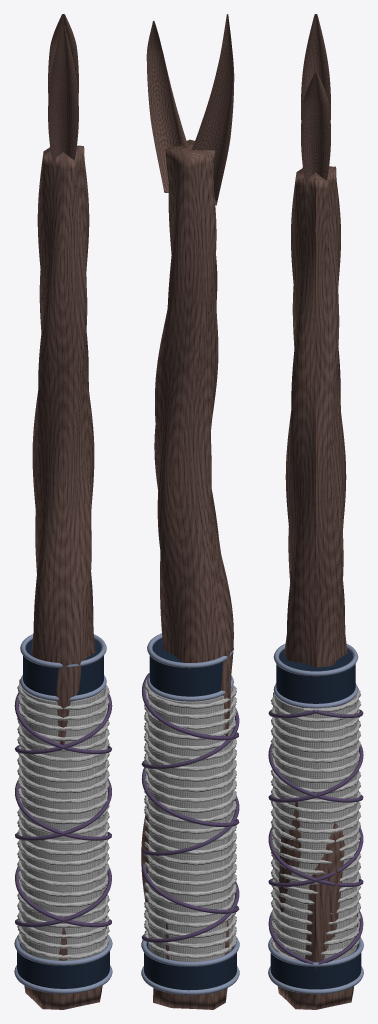
The model's file is magic_wand.glb.
The picture shows the model from 3 angles, left to right: view 1: azimuth 90°, elevation 25°; view 2: azimuth 150°, elevation 25°; view 3: azimuth 270°, elevation 25°; orthographic projection. The views are drawn at different scales.
Visible parts, largest first — view 1: magic oiled carved wood, magic dark hand binding, Nightglass fittings, Muted violet Void Thread, magic worn fitting edges; view 2: magic oiled carved wood, magic dark hand binding, Nightglass fittings, Muted violet Void Thread, magic worn fitting edges; view 3: magic oiled carved wood, magic dark hand binding, Nightglass fittings, Muted violet Void Thread, magic worn fitting edges.
Part boxes in pixels (x1,y1,x2,y2): magic oiled carved wood: [20, 14, 106, 1009]; magic dark hand binding: [17, 679, 109, 960]; Nightglass fittings: [17, 639, 109, 988]; Muted violet Void Thread: [14, 692, 112, 927]; magic worn fitting edges: [14, 634, 112, 993]; magic oiled carved wood: [141, 14, 234, 1009]; magic dark hand binding: [144, 679, 236, 961]; Nightglass fittings: [144, 638, 236, 990]; Muted violet Void Thread: [141, 673, 239, 942]; magic worn fitting edges: [141, 633, 239, 995]; magic oiled carved wood: [273, 14, 358, 1009]; magic dark hand binding: [271, 688, 360, 960]; Nightglass fittings: [270, 649, 361, 989]; Muted violet Void Thread: [268, 709, 363, 964]; magic worn fitting edges: [268, 643, 363, 994].
Bounding box in the file's own units: 0.052 × 0.562 × 0.0508.
5 materials, 2 textured.
